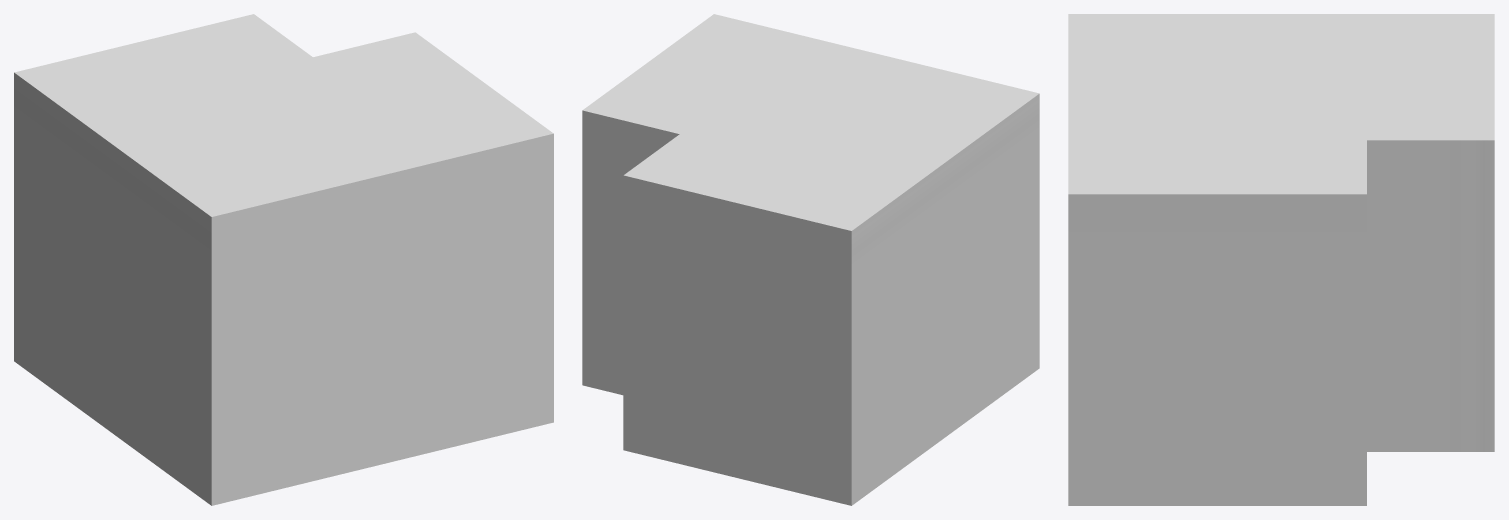
Rendered from CabinetECorner02.glb.
The picture shows the model from 3 angles, left to right: view 1: azimuth 30°, elevation 25°; view 2: azimuth 150°, elevation 25°; view 3: azimuth 270°, elevation 25°; orthographic projection. The views are drawn at different scales.
Visible parts, largest first — view 1: CabinetECorner02_model; view 2: CabinetECorner02_model; view 3: CabinetECorner02_model.
Boxes of the visible parts, x1,y1,x2,y2 form: CabinetECorner02_model: (14, 14, 553, 505); CabinetECorner02_model: (582, 14, 1039, 505); CabinetECorner02_model: (1068, 14, 1494, 505).
Size of the model in its own units: 1.72 by 1.39 by 1.72.
1 material, 1 textured.
